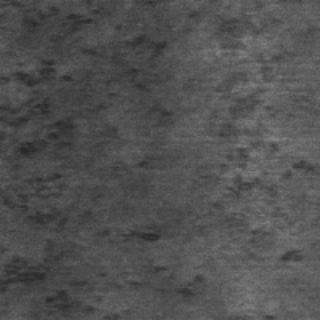rolled pit: (0, 51, 84, 292), (213, 144, 309, 264)
